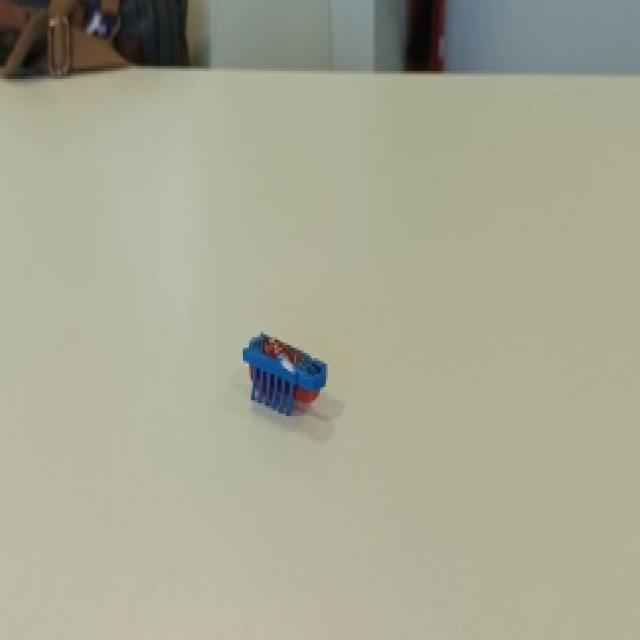1_NanoBug_Azul: (223, 306, 350, 436)
